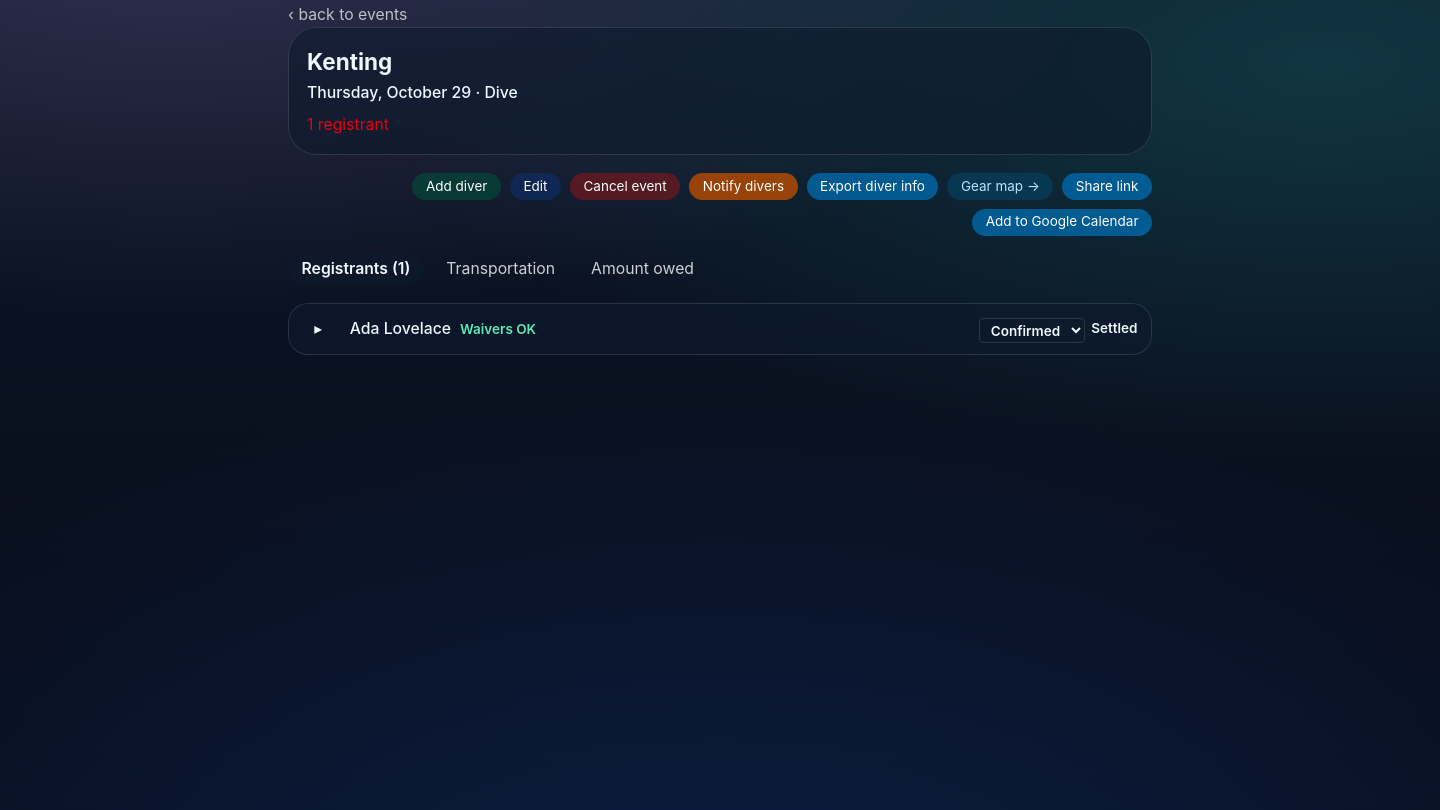
it: AdminEventDetailPage › says on the expanded card when someone registered as a non-diver
The width and height of the screenshot is (1440, 810).
Expected: the text "Ada Lovelace" is shown, [350, 319, 451, 338]
What coordinates should you click on to do the following:
click the button named "Ada Lovelace"
I would click on:
 (318, 329)
Its box is [294, 304, 343, 354].
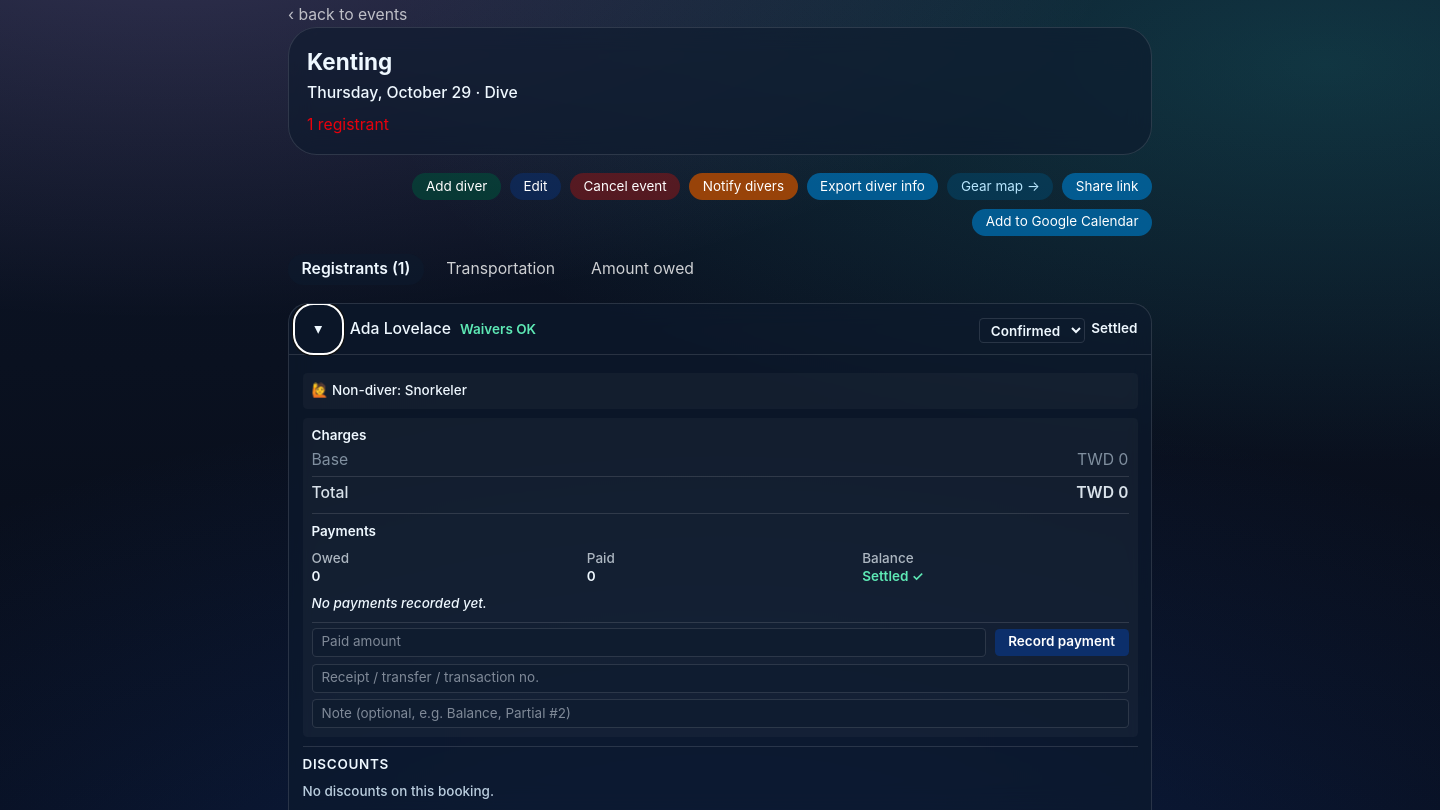
Expected: the text "🙋 Non-diver: Snorkeler" is shown, [312, 382, 467, 398]
